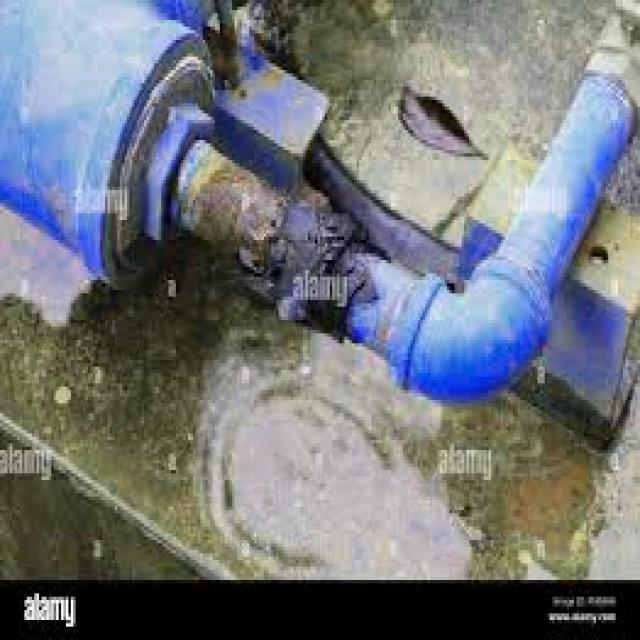corrosion: (250, 63, 487, 347)
